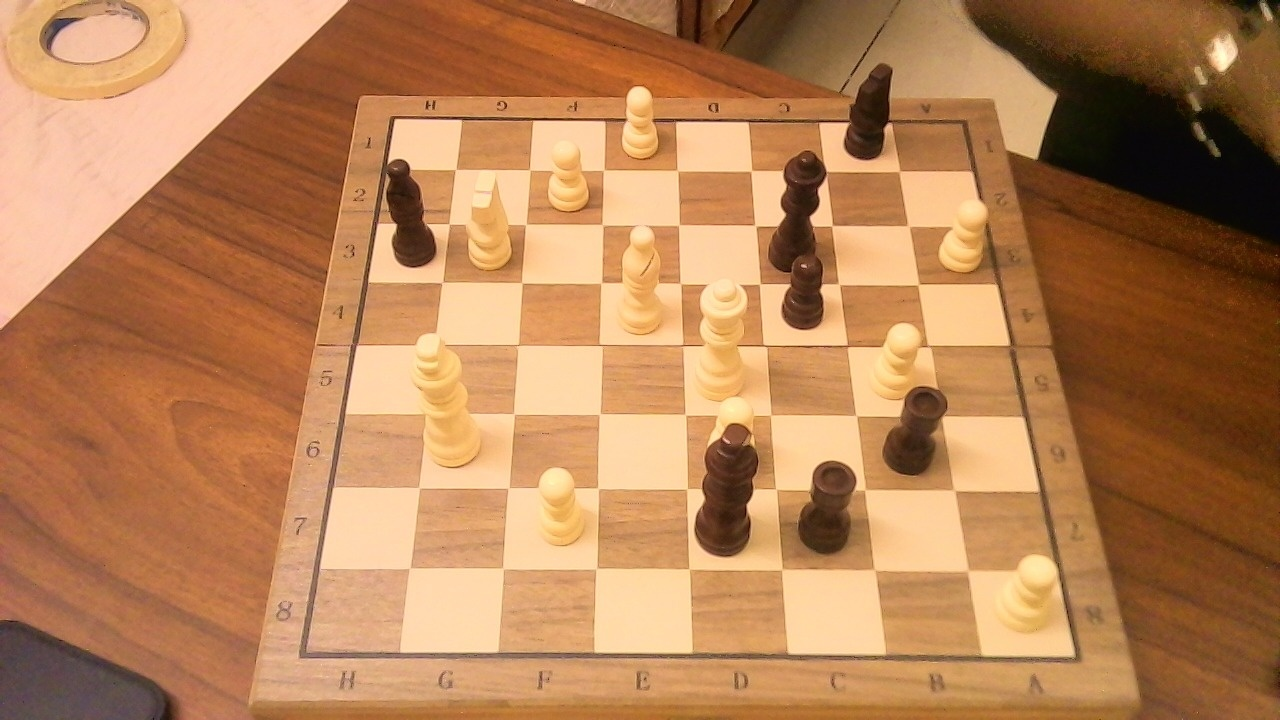B: (608, 213, 673, 339)
K: (406, 322, 492, 472)
N: (454, 162, 520, 274)
P: (989, 544, 1068, 637), (523, 457, 589, 551), (862, 313, 930, 404), (696, 386, 762, 479), (932, 190, 995, 275), (538, 131, 595, 216), (613, 77, 665, 163)
Q: (689, 266, 759, 407)
b: (379, 146, 444, 272)
k: (691, 410, 772, 562)
n: (838, 51, 901, 163)
p: (775, 245, 836, 334)
q: (765, 138, 838, 276)
r: (791, 448, 869, 557), (877, 373, 957, 479)
